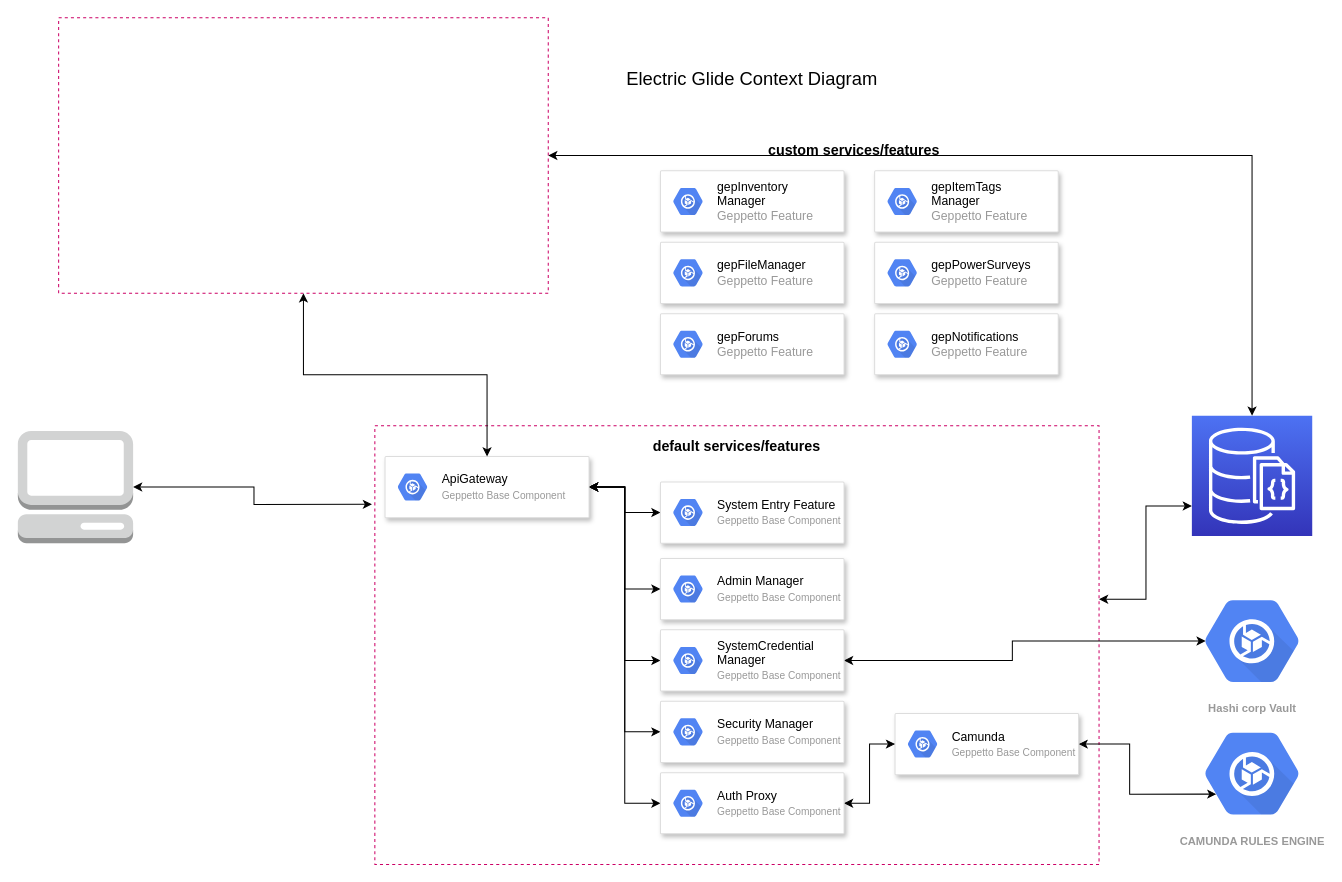
Image size: 1342x882. Some labels were removed from this diagram. Each missing label, with the centre of its shape:
Angular v12 UI: point (75, 486)
Mongo DB: point (1251, 475)
